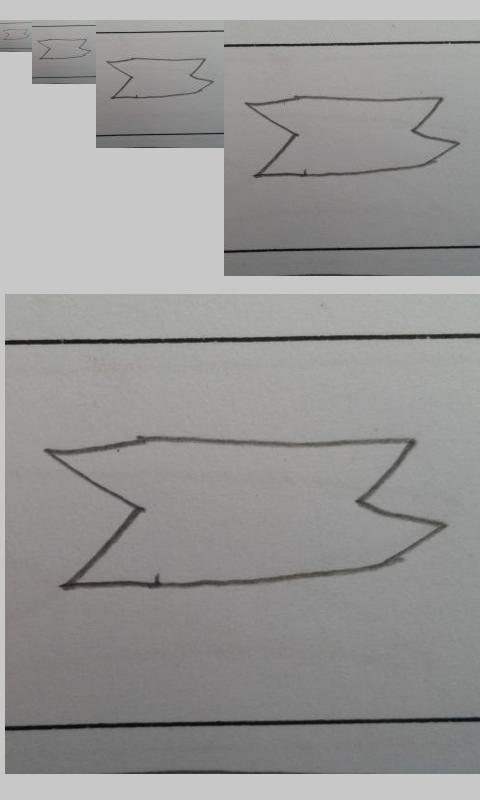edit_text: (45, 433, 452, 595), (244, 94, 461, 179), (106, 57, 214, 99), (37, 38, 92, 60), (2, 28, 30, 40)
